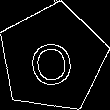O_N: (27, 29, 78, 87)
